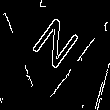N_SW: (21, 9, 80, 75)
